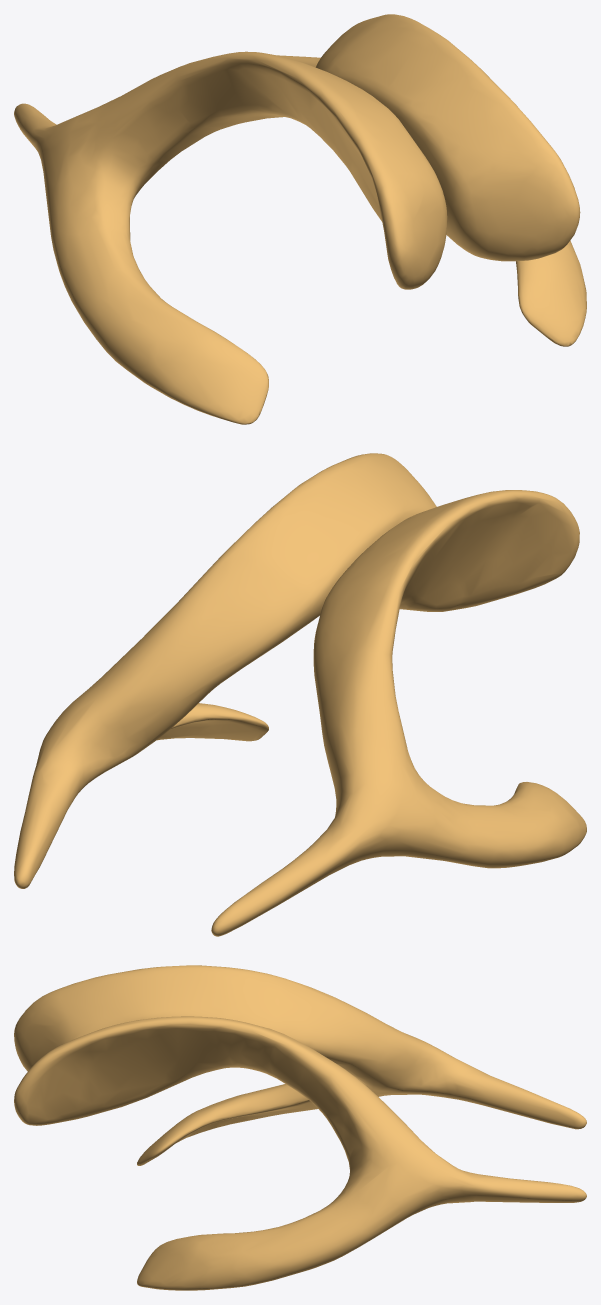
File: ventriculos-laterais.glb
3 views of the same model, one above another, from view 1: azimuth 30°, elevation 25°; view 2: azimuth 150°, elevation 25°; view 3: azimuth 270°, elevation 25° (orthographic). The views are drawn at different scales.
Visible parts, largest first — view 1: ventriculos-laterais; view 2: ventriculos-laterais; view 3: ventriculos-laterais.
Boxes of the visible parts, box(x1,y1,x2,y2) form: ventriculos-laterais: box(14, 14, 586, 424); ventriculos-laterais: box(14, 453, 586, 936); ventriculos-laterais: box(14, 965, 586, 1290).
Bounding box in the file's own units: 0.0775 × 0.049 × 0.1093.
